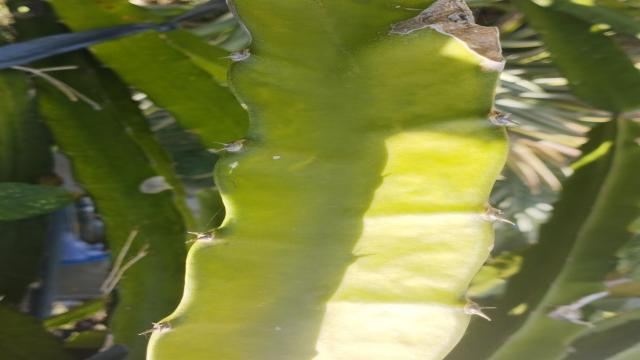stemcanker: (270, 319, 294, 336), (268, 150, 294, 164)
